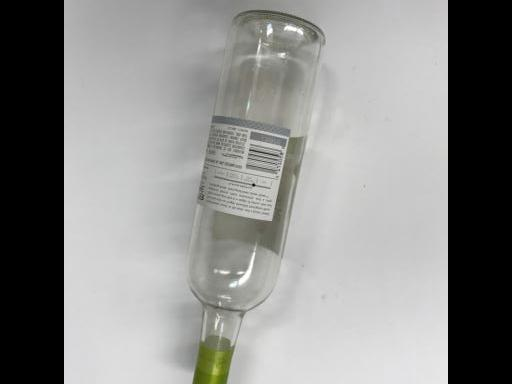alcohol: (186, 9, 328, 384)
glass: (186, 9, 328, 384)
sodocalcique: (186, 9, 328, 384)
